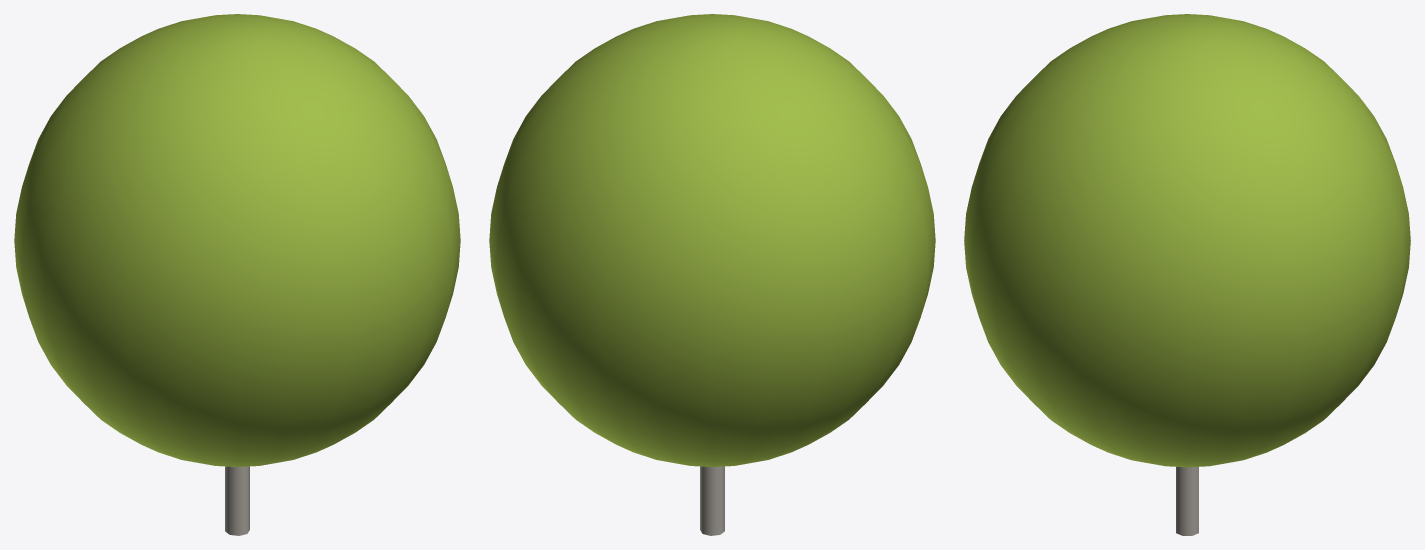
Rendered from UlmusMinor.glb.
The picture shows the model from 3 angles, left to right: view 1: azimuth 30°, elevation 25°; view 2: azimuth 150°, elevation 25°; view 3: azimuth 270°, elevation 25°; orthographic projection.
Visible parts, largest first — view 1: Field_Elm__Schematic_LOD3; view 2: Field_Elm__Schematic_LOD3; view 3: Field_Elm__Schematic_LOD3.
Boxes of the visible parts, left/top/right/bottom form: Field_Elm__Schematic_LOD3: left=14, top=14, right=460, bottom=535; Field_Elm__Schematic_LOD3: left=489, top=14, right=935, bottom=535; Field_Elm__Schematic_LOD3: left=964, top=14, right=1410, bottom=535.
Bounding box in the file's own units: 19.7 × 24.17 × 19.7.
